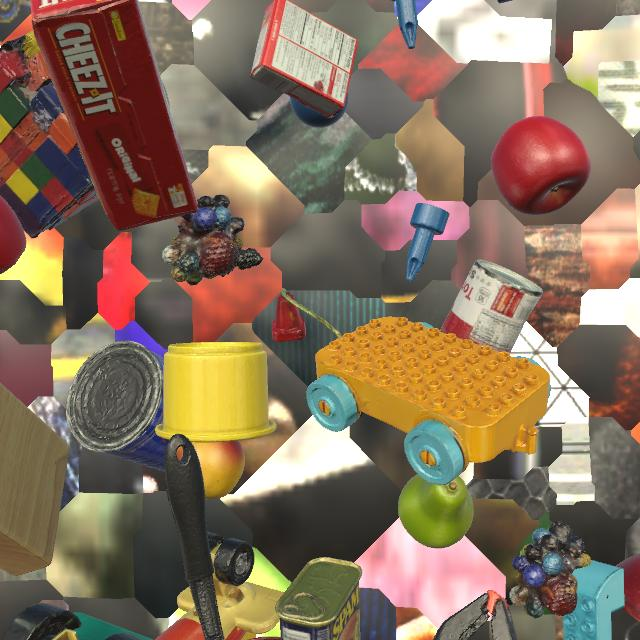ycb_002_master_chef_can: (66, 341, 169, 471)
ycb_003_cracker_box: (30, 0, 198, 231)
ycb_005_tomato_soup_can: (440, 259, 543, 353)
ycb_009_gelatin_box: (250, 0, 359, 118)
ycb_010_potted_meat_can: (275, 557, 363, 640)
ycb_013_apple: (491, 116, 591, 215), (0, 195, 26, 274)
ycb_015_peach: (177, 441, 245, 500)
ycb_016_pear: (398, 474, 474, 548)
